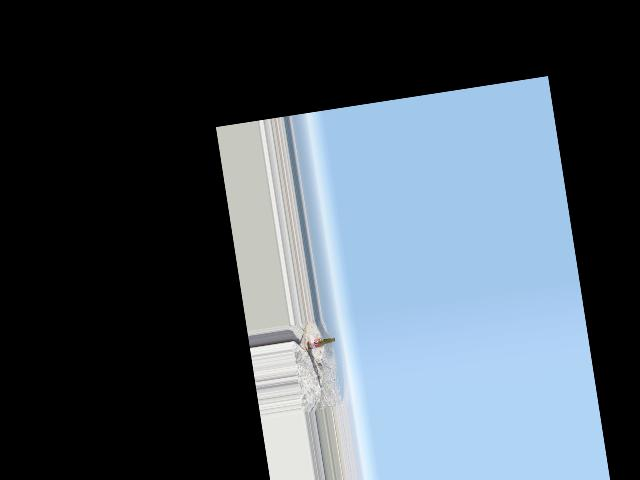beer: (307, 336, 335, 349)
